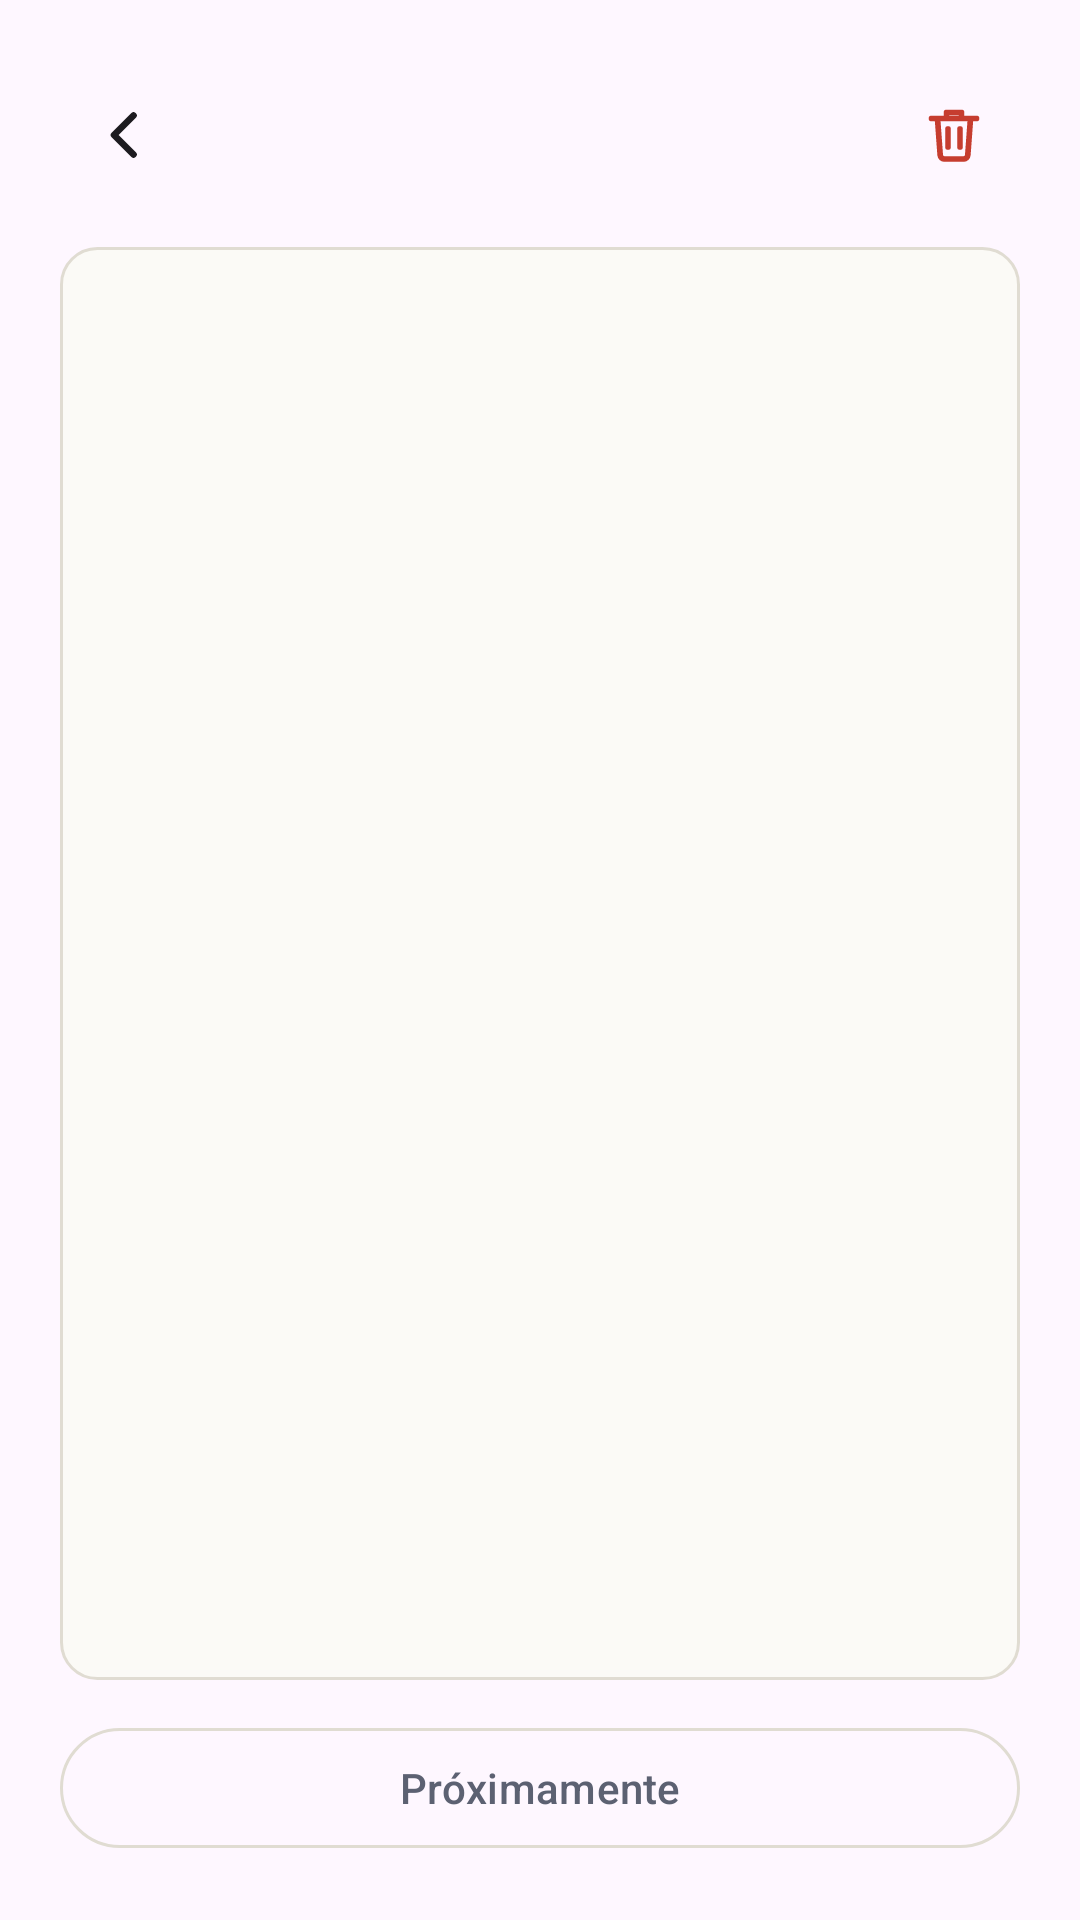

Icons on this 1080 x 1920 Android screen, each with the point to tap as (x,y):
Borrar esta conversación: (954,135)
Volver al historial: (123,135)
